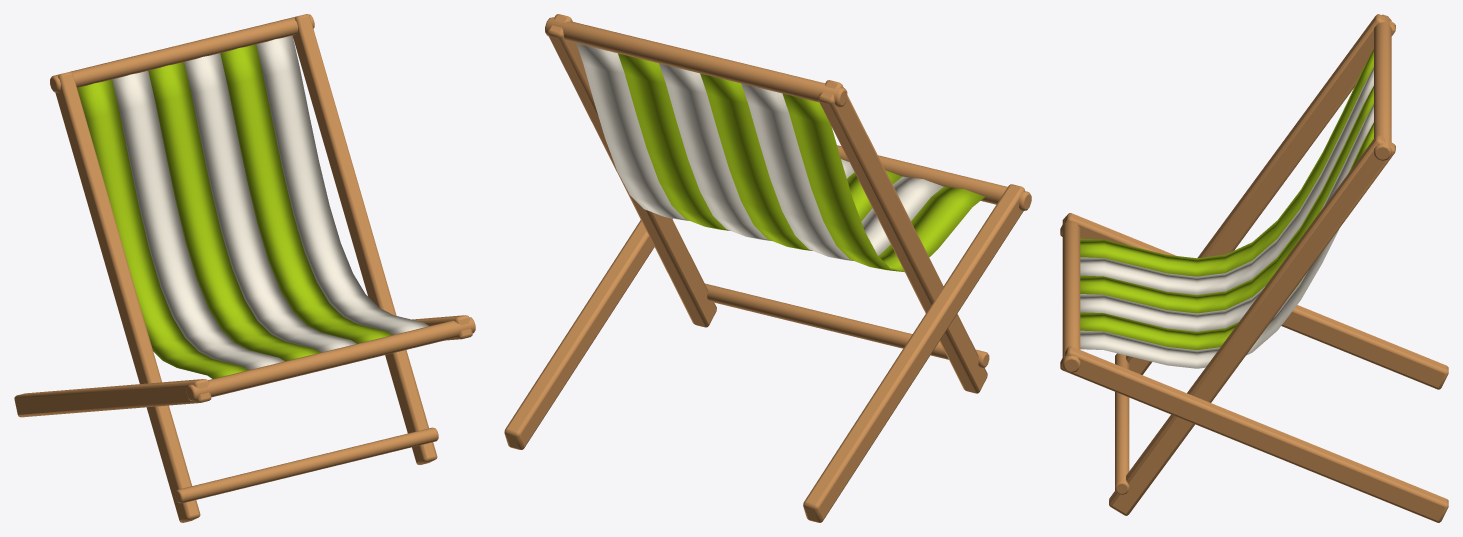
File: deck-chair.glb
3 views of the same model, side by side, from view 1: azimuth 30°, elevation 25°; view 2: azimuth 150°, elevation 25°; view 3: azimuth 270°, elevation 25° (orthographic). The views are drawn at different scales.
Parts seen in each view (by area): view 1: deck-chair; view 2: deck-chair; view 3: deck-chair.
Part boxes in pixels (<box>): deck-chair: <box>14,14,475,522</box>; deck-chair: <box>504,14,1031,522</box>; deck-chair: <box>1060,14,1448,522</box>.
Size of the model in its own units: 0.8101 by 0.9896 by 0.9232.
